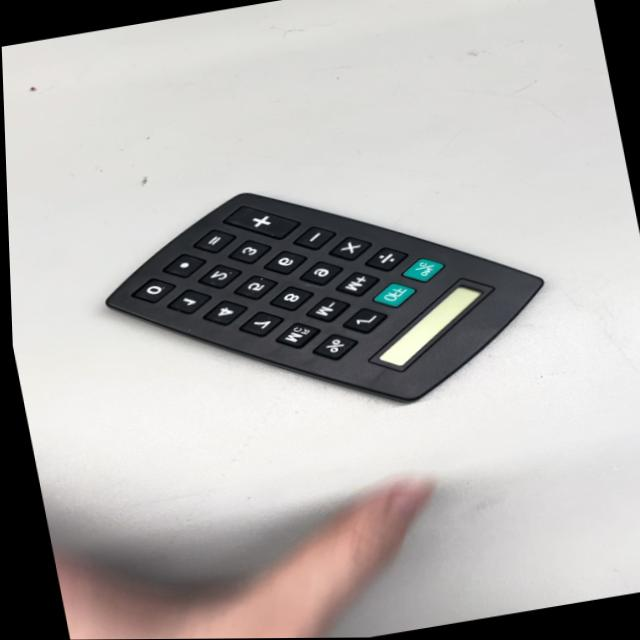calculator: (94, 151, 566, 446)
